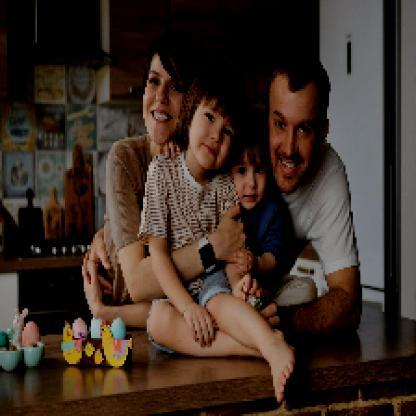child: (139, 63, 299, 403), (228, 107, 287, 306)
